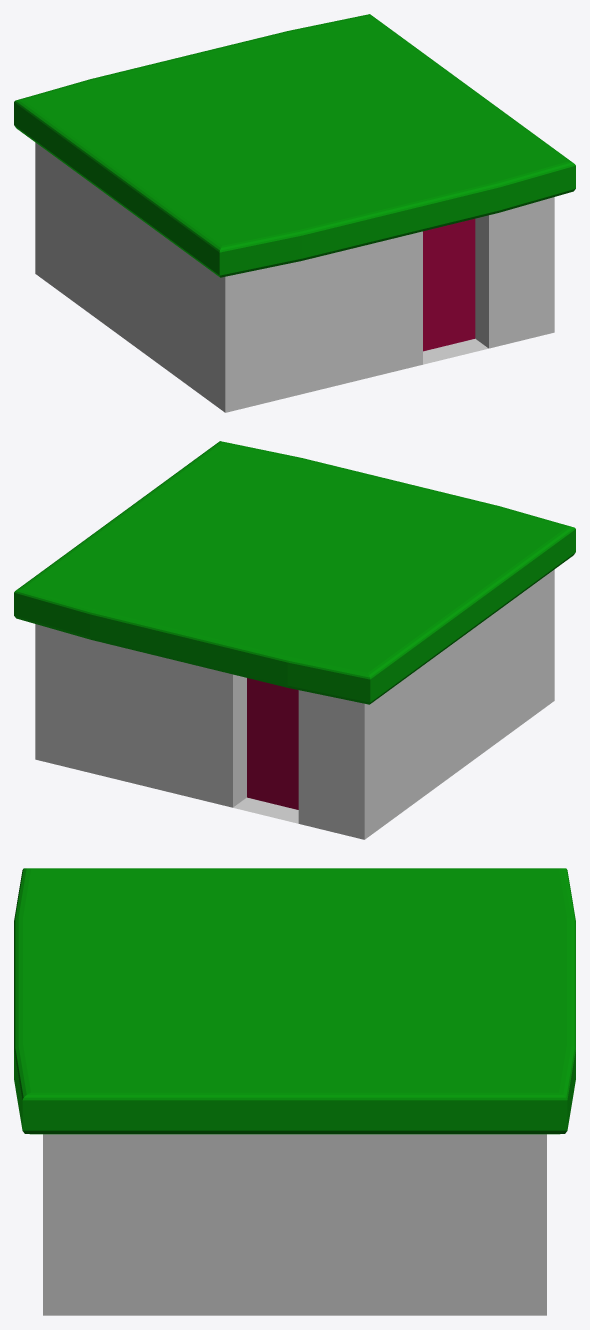
File: Toilet.fbx
The picture shows the model from 3 angles, top to bottom: view 1: azimuth 30°, elevation 25°; view 2: azimuth 150°, elevation 25°; view 3: azimuth 270°, elevation 25°; orthographic projection. The views are drawn at different scales.
Visible parts, largest first — view 1: Cube; view 2: Cube; view 3: Cube.
Part boxes in pixels (left/top/right/bottom): Cube: left=14, top=14, right=575, bottom=412; Cube: left=14, top=441, right=575, bottom=839; Cube: left=14, top=868, right=575, bottom=1315.
Bounding box in the file's own units: 649 × 300 × 669.
